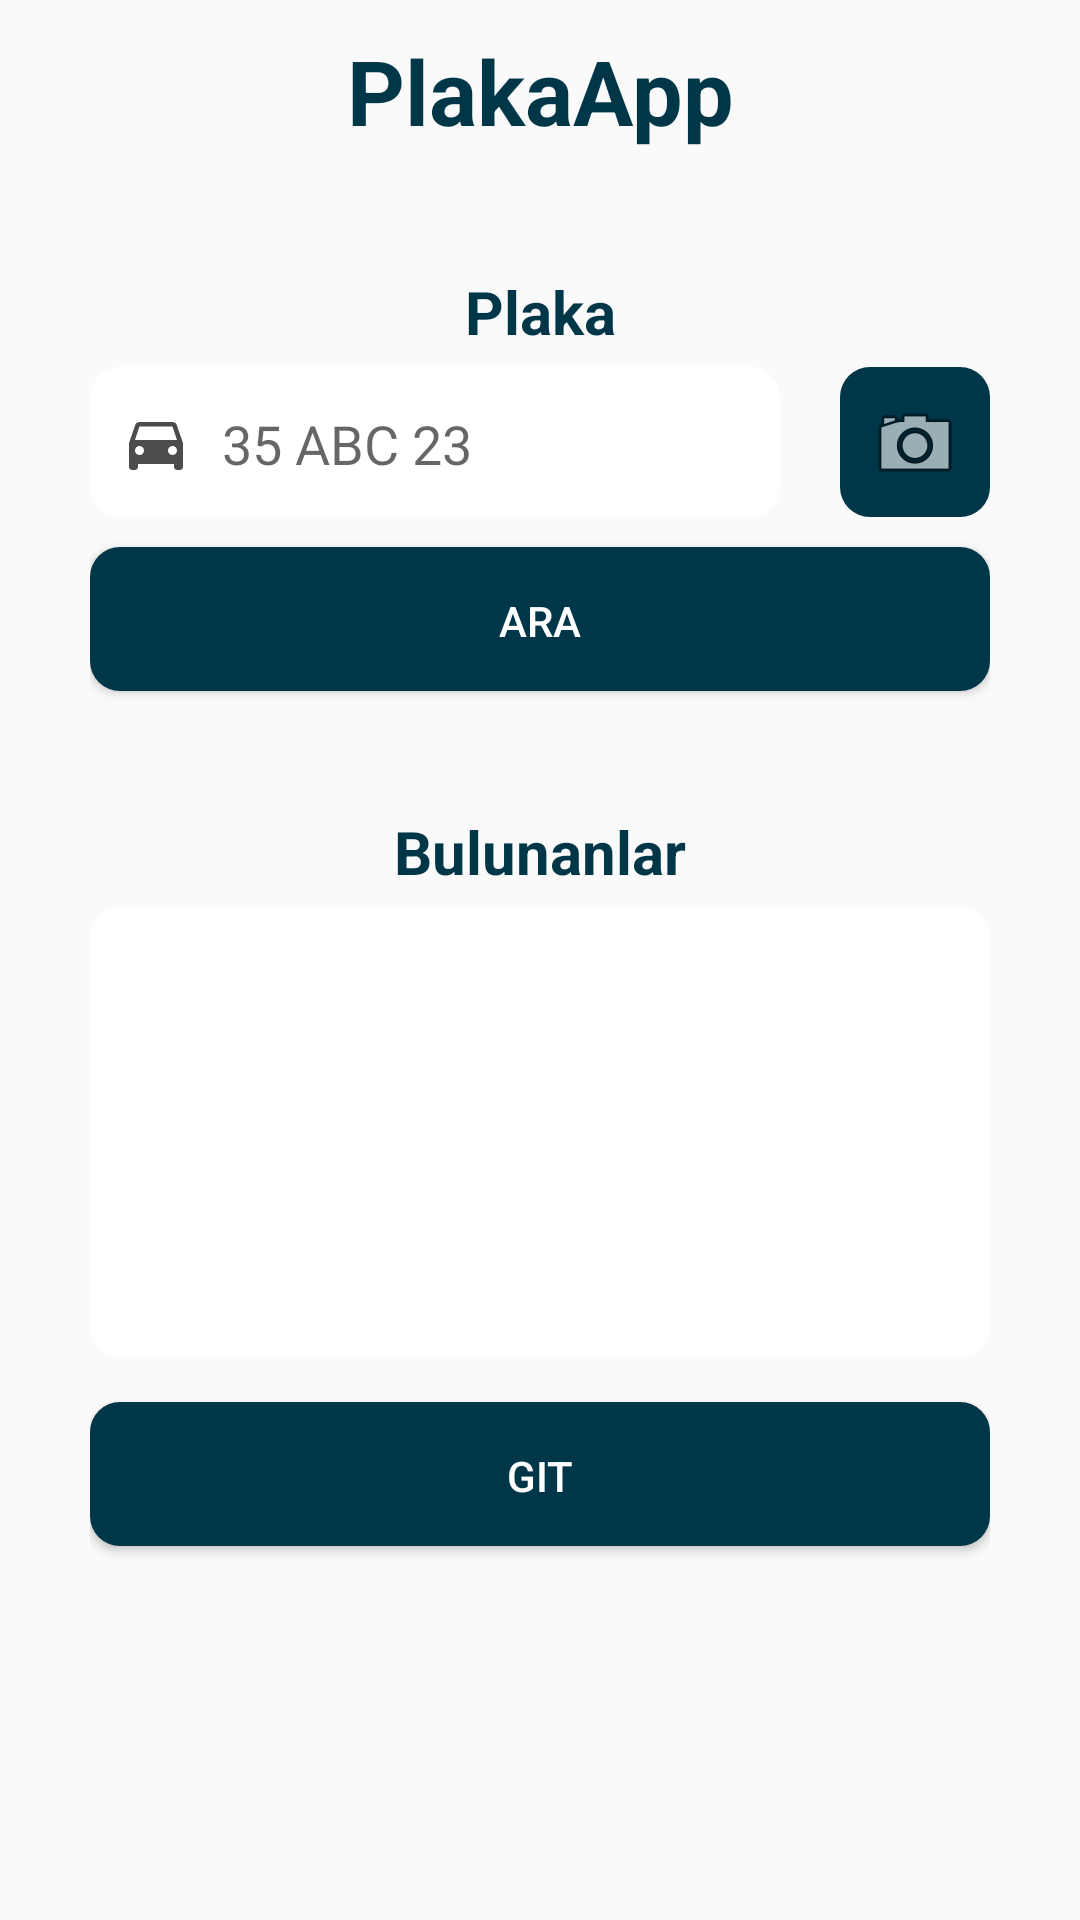

Icon click points for this 1080px×1920px phone screenshot, format (x=x, y=y):
camera: (x=915, y=442)
